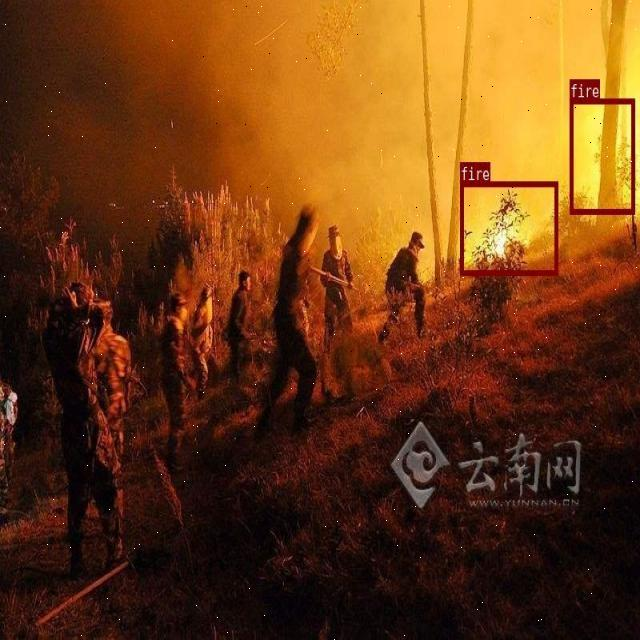fire: (460, 180, 557, 275), (569, 98, 634, 213)
